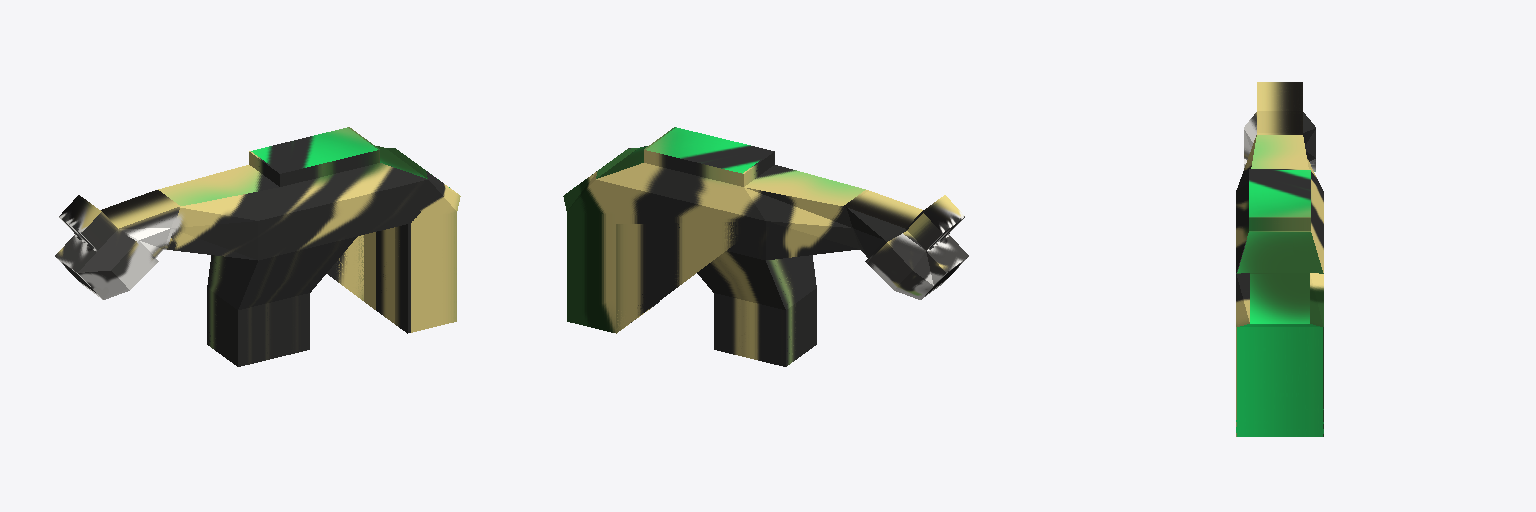
The picture shows the model from 3 angles: view 1: azimuth 30°, elevation 25°; view 2: azimuth 150°, elevation 25°; view 3: azimuth 270°, elevation 25°; orthographic projection.
Visible parts, largest first — view 1: Cube; view 2: Cube; view 3: Cube.
Boxes of the visible parts, box(x1,y1,x2,y2) form: Cube: box(55, 127, 460, 366); Cube: box(563, 127, 968, 366); Cube: box(1236, 82, 1323, 436).
Size of the model in its own units: 14.15 by 6.65 by 2.82.
1 materials, 1 textured.